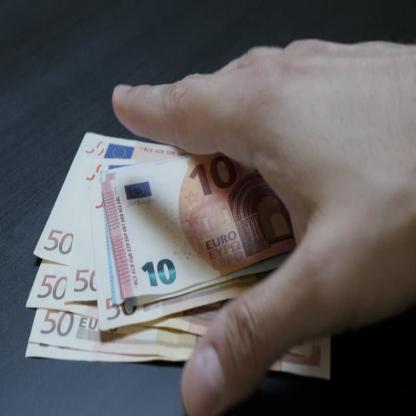billete: (23, 126, 334, 380)
